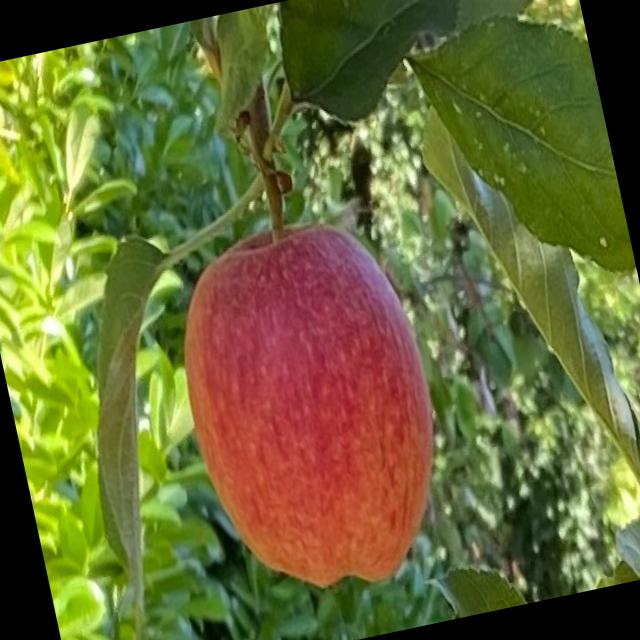Apples: (157, 202, 462, 606)
